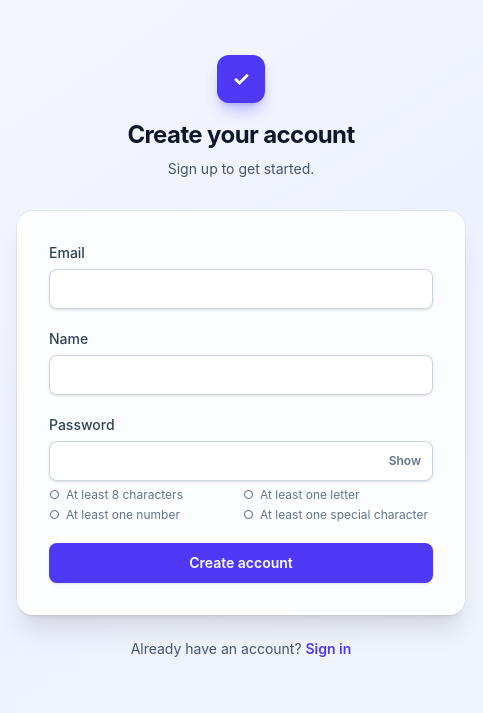
Sign up page › shows field errors and sends nothing when the form is invalid
The image size is (483, 713).
Click the button "Create account" at {"x": 241, "y": 563}, box [49, 543, 433, 583]
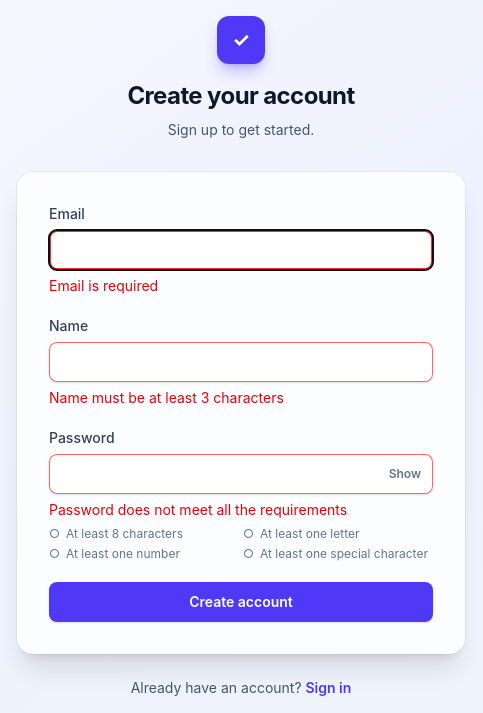
Expected: the text "Email is required" is shown, [49, 277, 158, 294]
Expected: the text "Name must be at least 3 characters" is shown, [49, 389, 284, 406]
Expected: the text "Password does not meet all the requirements" is shown, [49, 501, 347, 518]
